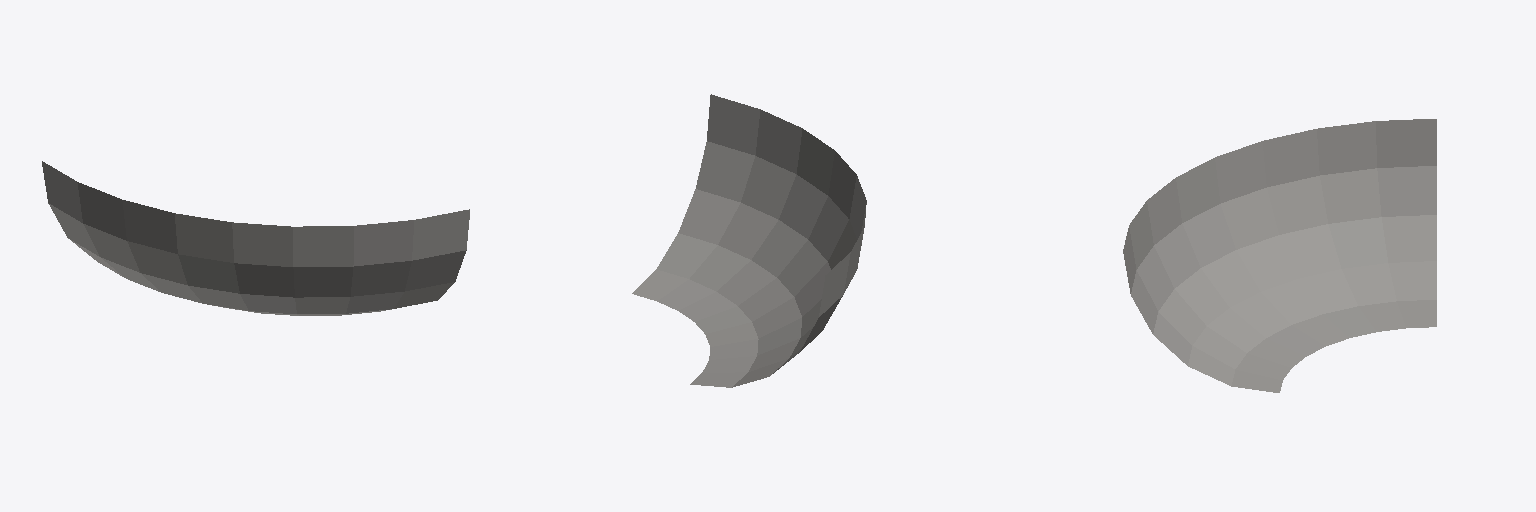
The model's file is Cave_Terrain_Corner_Inner_2x2_Base.obj.
3 views of the same model, side by side, from view 1: azimuth 30°, elevation 25°; view 2: azimuth 150°, elevation 25°; view 3: azimuth 270°, elevation 25° (orthographic).
Visible parts, largest first — view 1: object1; view 2: object1; view 3: object1.
Boxes of the visible parts, <box> form: object1: <box>42,161,469,315</box>; object1: <box>632,94,866,387</box>; object1: <box>1123,119,1436,392</box>.
Bounding box in the file's own units: 2 × 1 × 2.